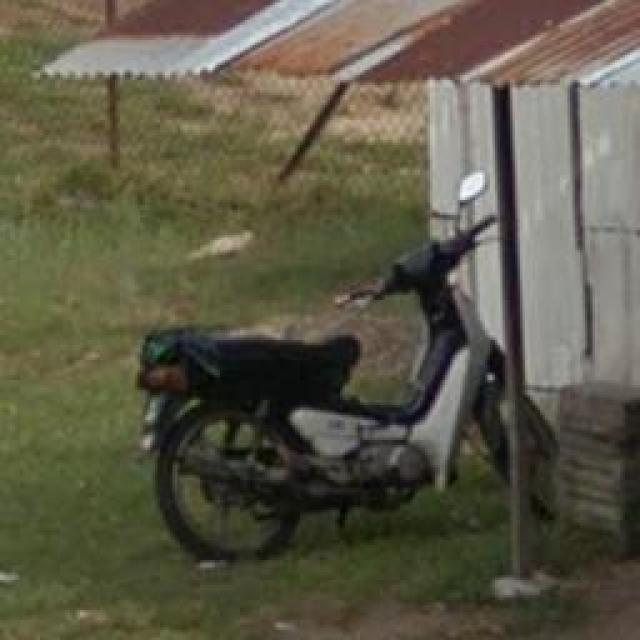motorbike: (115, 168, 575, 572)
